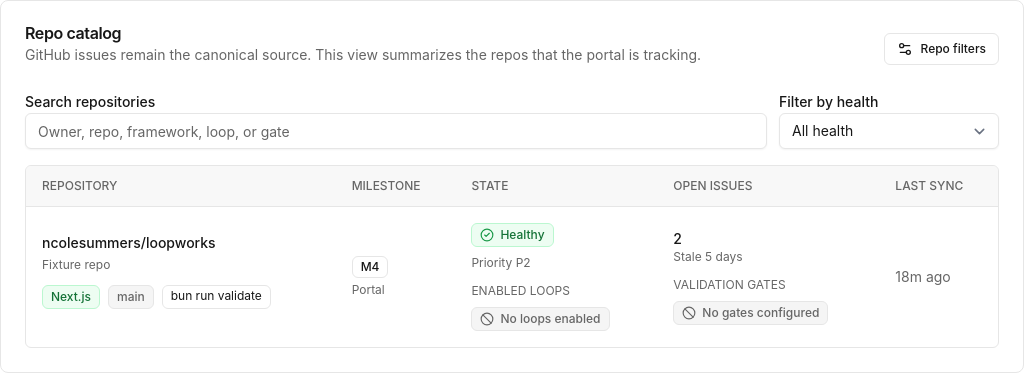
Test: portal reusable components › offers a filter reset when the operator's own filters emptied a populated catalog
Type "no-such-repository" into the field labelled "Search repositories".
click(396, 131); type("no-such-repository")  # box [25,113,767,149]
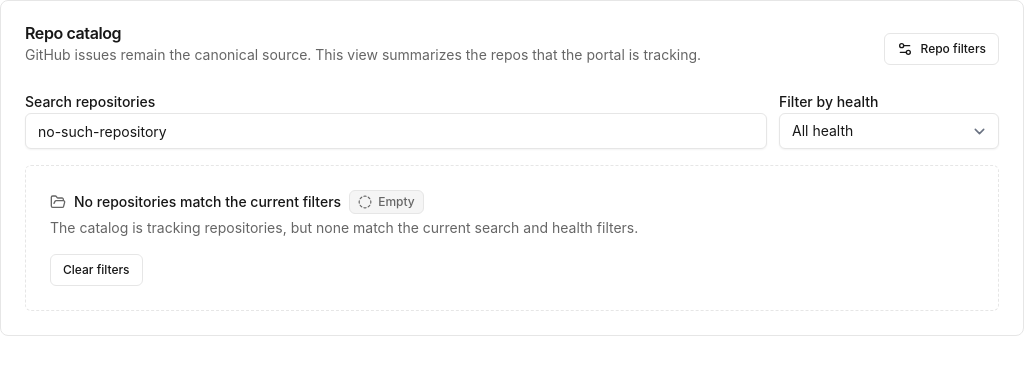
expect the text "No repositories match the current filters" is shown: met, box [74,192,341,212]
Click the button "Clear filters".
click(96, 270)  # box [50,254,143,286]
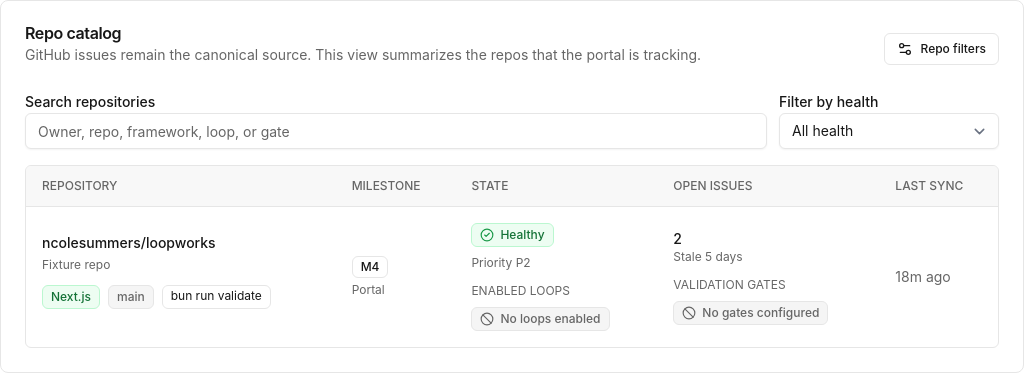
expect the link "ncolesummers/loopworks" is shown: met, box [42,234,216,251]
